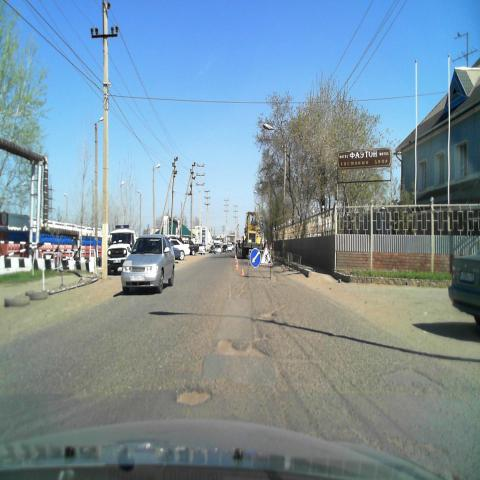1_25: (260, 245, 274, 267)
